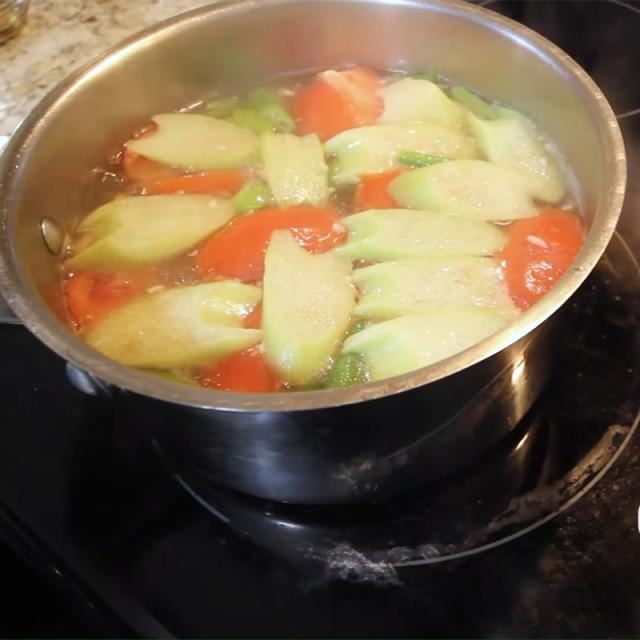canh chua: (46, 67, 584, 392)
